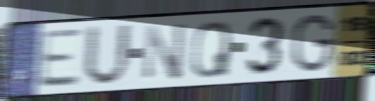3: (244, 15, 288, 78)
E: (35, 27, 84, 90)
G: (290, 12, 336, 75)
N: (142, 20, 188, 82)
Q: (189, 19, 232, 80)
U: (81, 22, 134, 88)
